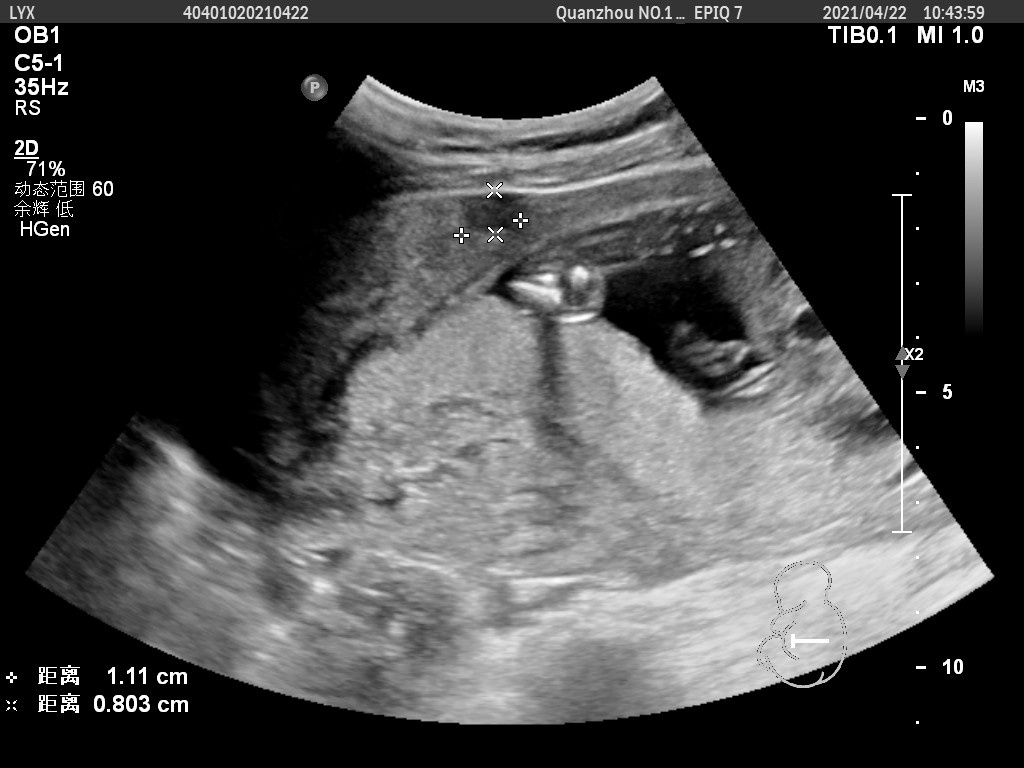肌瘤: (457, 191, 522, 238)
